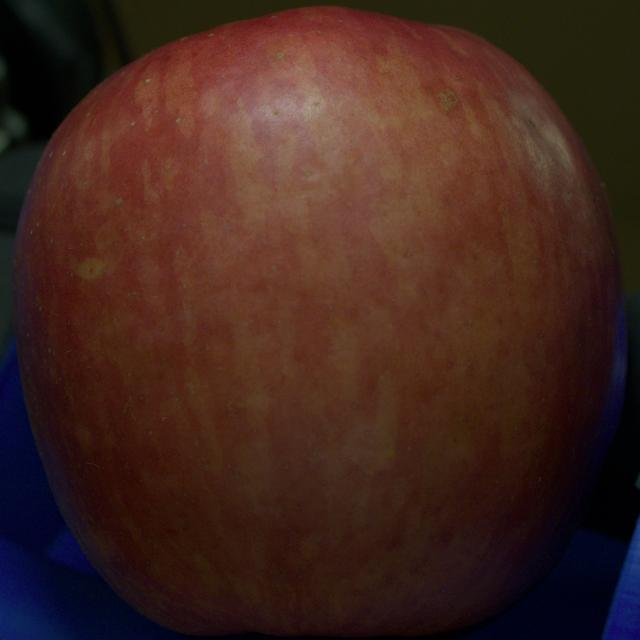apple: (15, 8, 626, 635)
bruise: (509, 102, 602, 236)
